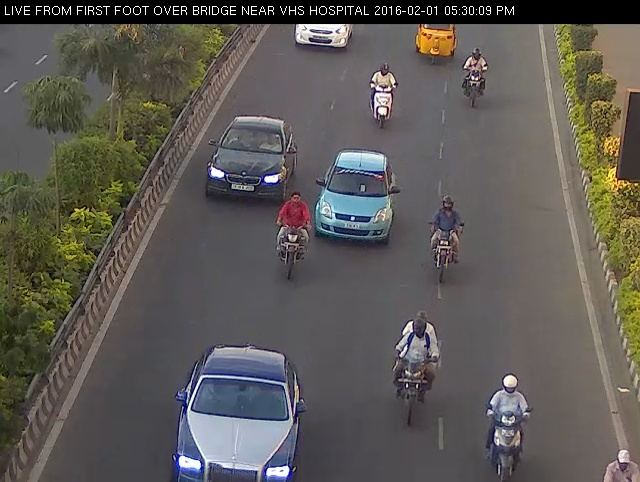Auto: (408, 12, 463, 71)
Car: (163, 329, 315, 482), (193, 92, 298, 207), (312, 145, 403, 248), (287, 15, 362, 60)
Person: (386, 304, 446, 435), (483, 359, 534, 481), (271, 184, 311, 289), (423, 195, 471, 281), (359, 60, 399, 136), (457, 47, 497, 115)
